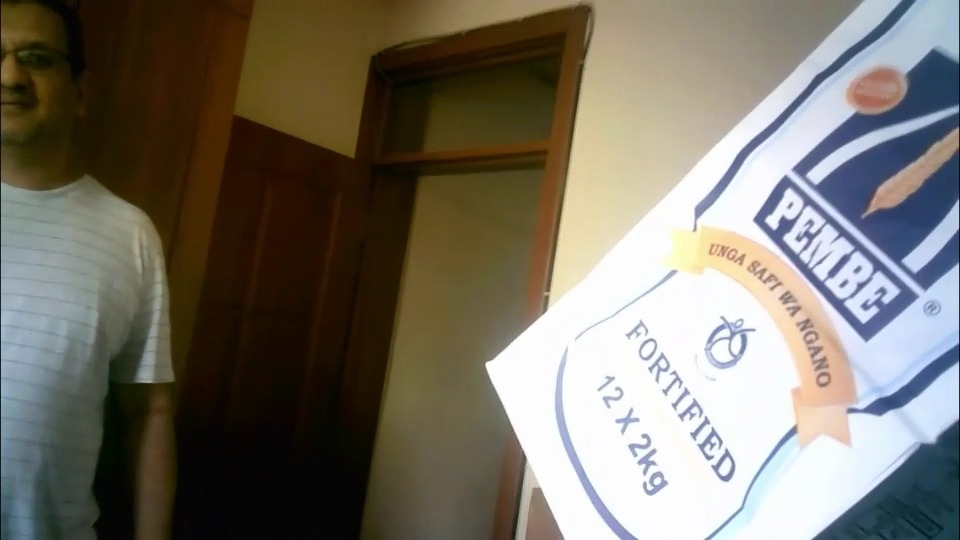wheat_flour_blue_label: (476, 1, 960, 540)
